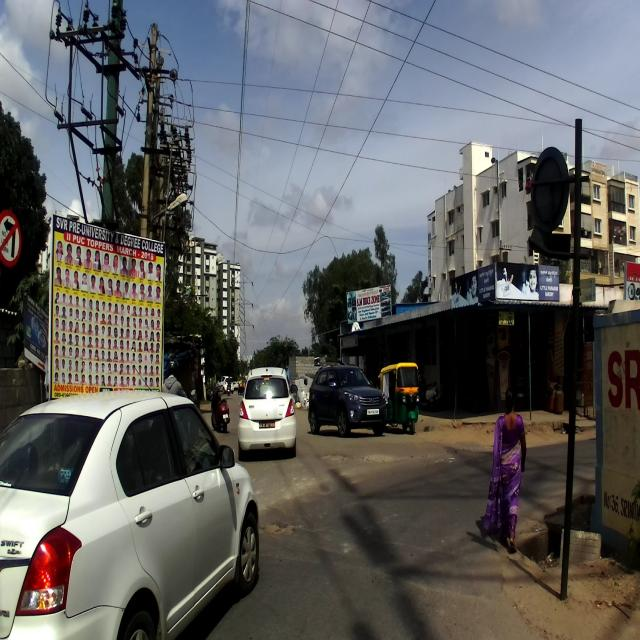Car_Hyundai: (307, 362, 388, 437)
Car_Maruti-Suzuki: (0, 388, 260, 640), (237, 362, 298, 462)
